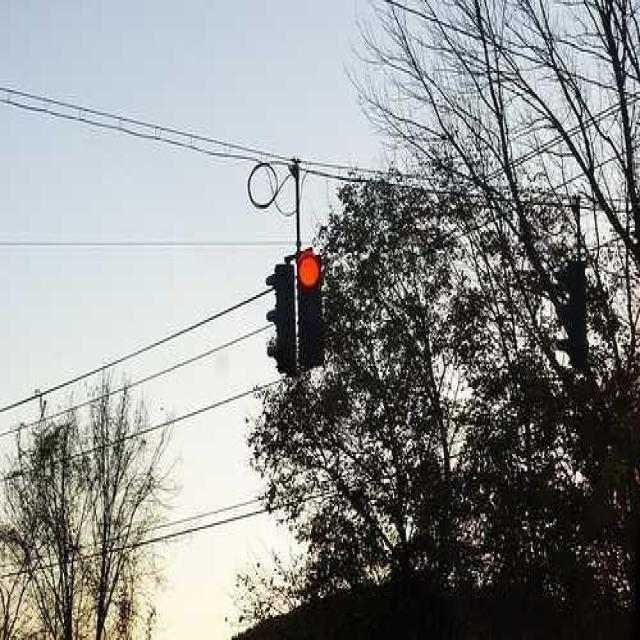Traffic Light -Red-: (292, 247, 328, 371)
